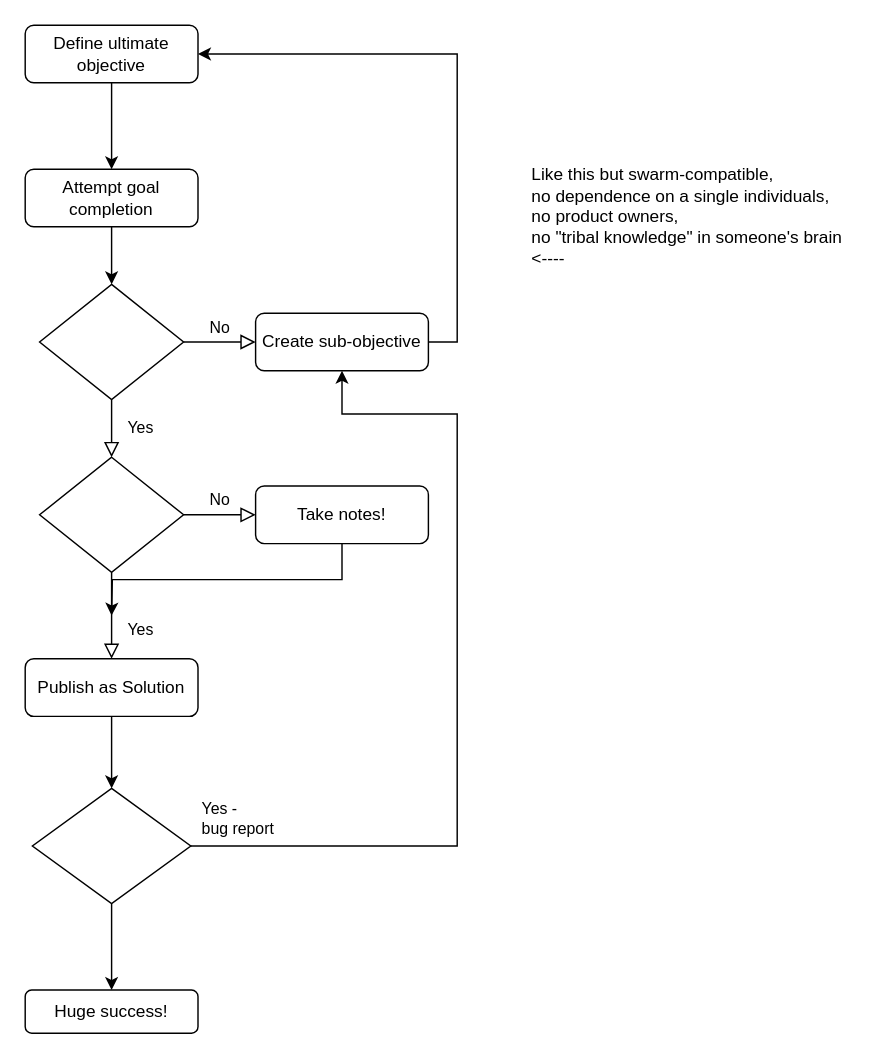
This 886x1058 diagram has some shape labels left out. The centre of each missing label's shape, as x and y in pixels:
Documentation complete?: the point at 111,514
Objective complete?: the point at 111,341
Undocumented problem?: the point at 111,845
